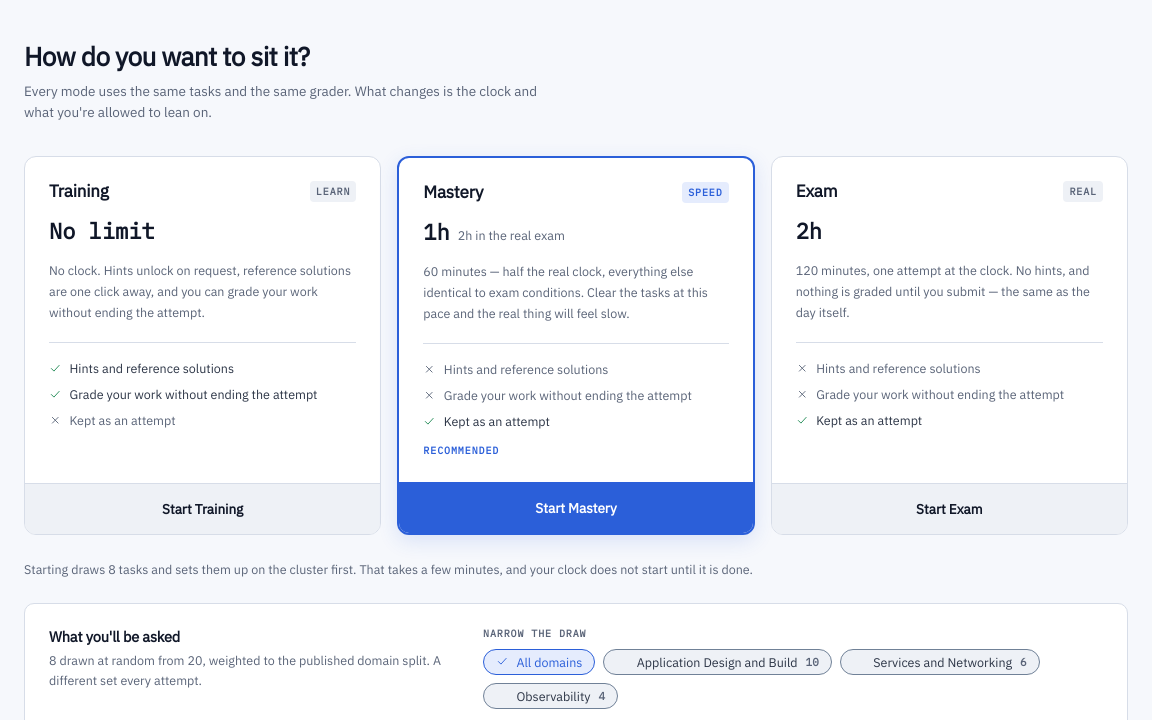
Scenario: narrowing the draw › a pooled bank's declared length still caps the narrowed draw
Click the button "Services and Networking 6". click: [940, 662]
box: 840,648 -> 1040,674
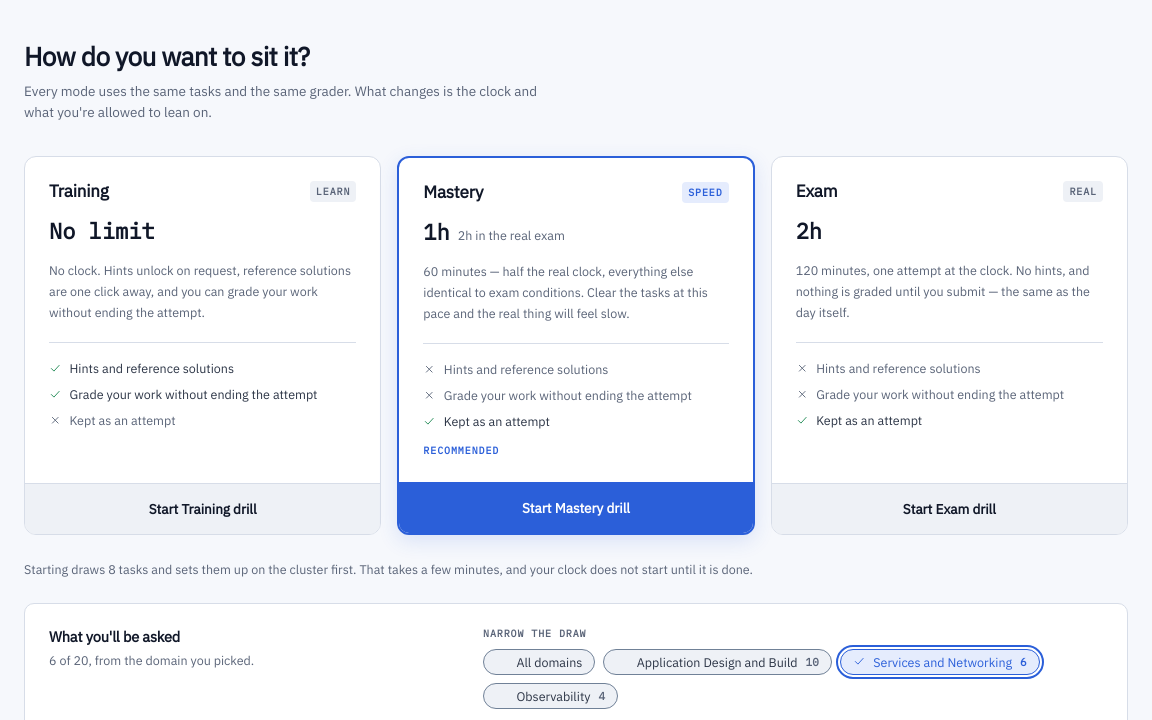
Click the button "Observability 4". click: [551, 696]
box: 483,682 -> 618,708
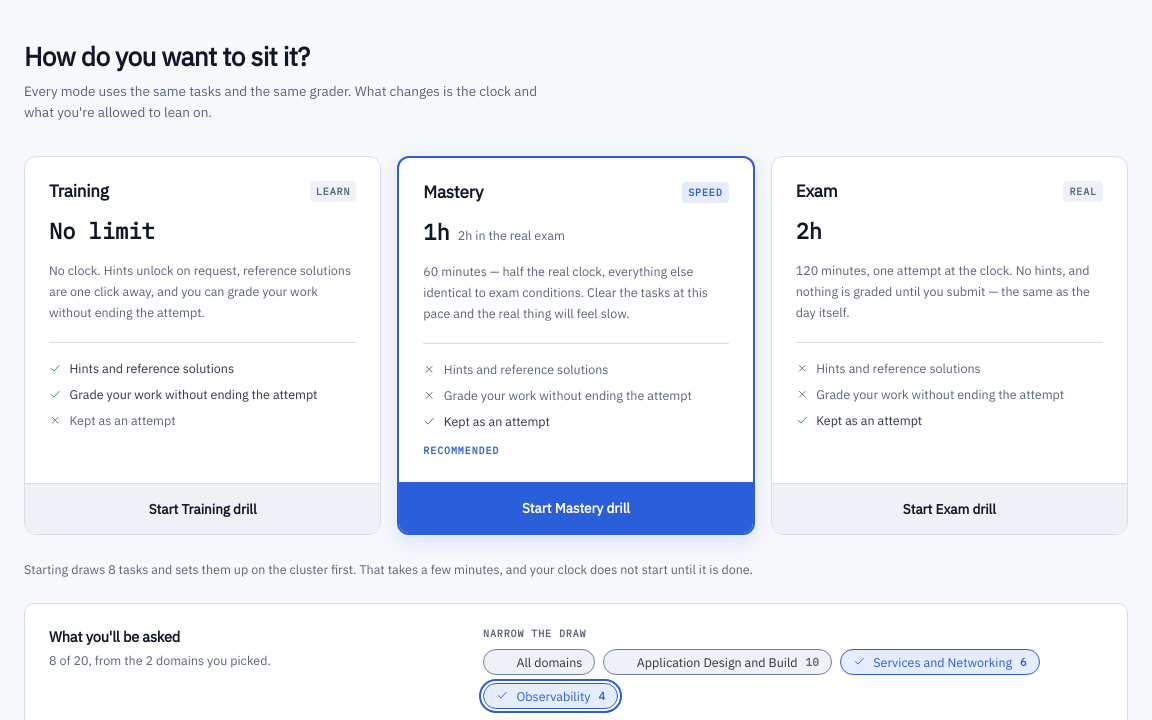
Result: the text "8 of 20, from the 2 domains you picked." is shown at 49,652 -> 271,668
